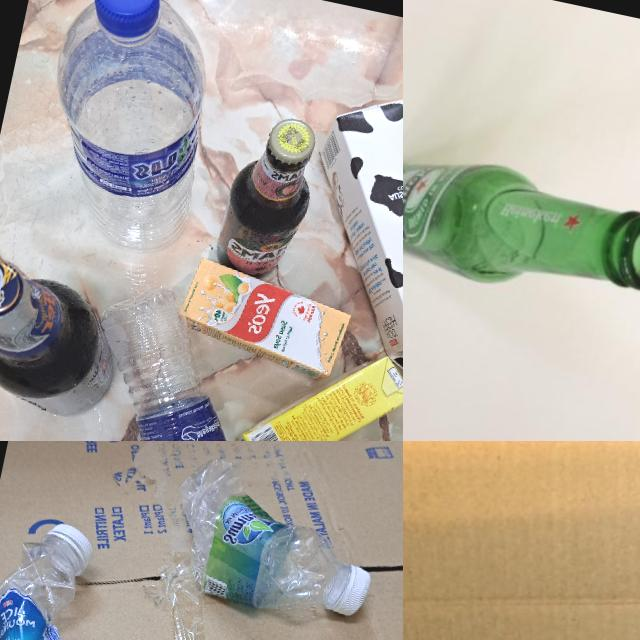caixinha: (277, 78, 403, 399), (172, 251, 358, 379), (230, 332, 403, 441)
garrafa de vidro: (403, 134, 640, 320), (0, 250, 131, 431), (204, 106, 328, 286)
garrafa plástica: (17, 0, 228, 260), (59, 271, 281, 441), (156, 450, 364, 622), (0, 530, 179, 640)
papelão: (0, 441, 403, 640), (403, 441, 640, 640)
tampa plástica: (85, 0, 166, 42), (41, 519, 99, 566), (332, 564, 372, 619)
